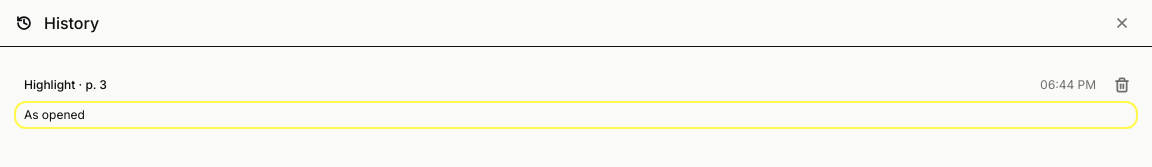
Test: history list › deletes an annotation from the list as a new undoable step; disabled when it is gone
This screenshot has width=1152, height=167.
What coordinates should you click on to do the following:
click the button named "Delete Highlight"
I would click on:
 (1122, 85)
Its box is x1=1108 y1=71 x2=1136 y2=99.
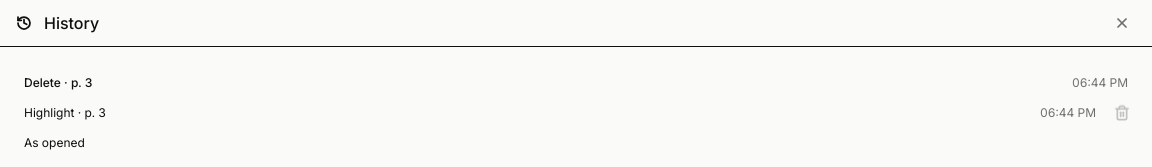
Expected: the button named "Delete Highlight" is disabled, x1=1108 y1=99 x2=1136 y2=127
